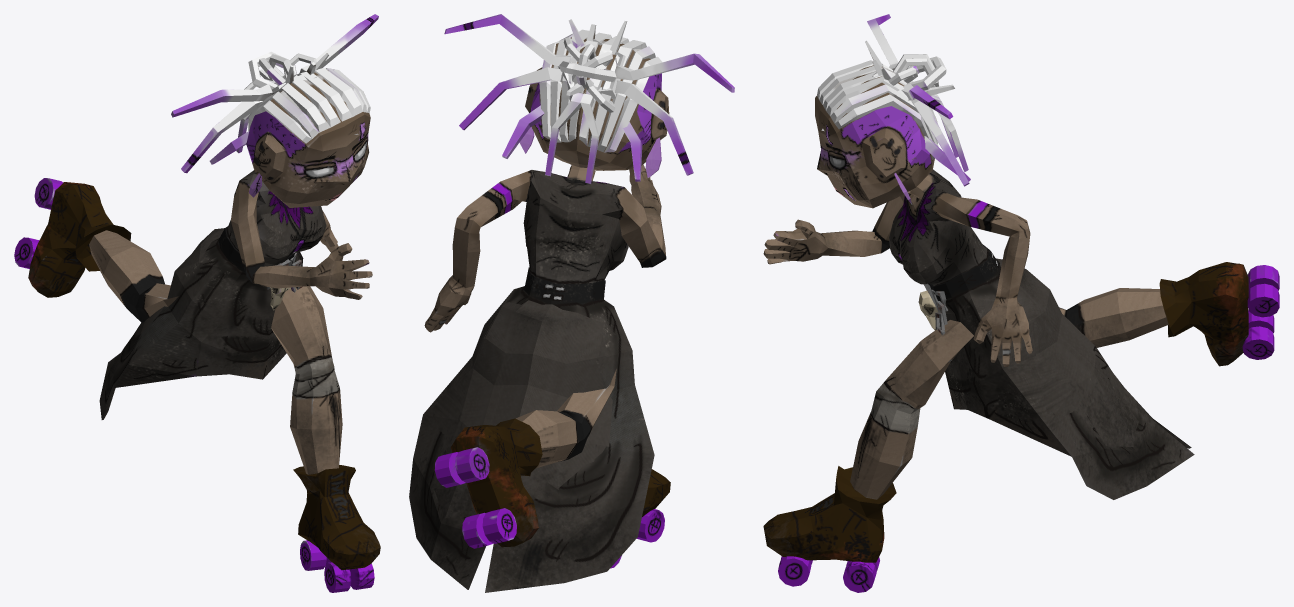
Rendered from bruja_000002.obj.
3 renders of one model, left to right at view 1: azimuth 30°, elevation 25°; view 2: azimuth 150°, elevation 25°; view 3: azimuth 270°, elevation 25°, orthographic. The views are drawn at different scales.
Visible parts, largest first — view 1: Bruja_Plane.001; view 2: Bruja_Plane.001; view 3: Bruja_Plane.001.
Boxes of the visible parts, bbox=[...] form: Bruja_Plane.001: bbox=[14, 14, 380, 592]; Bruja_Plane.001: bbox=[409, 14, 734, 592]; Bruja_Plane.001: bbox=[763, 14, 1279, 592].
Bounding box in the file's own units: 7.28 × 15.02 × 13.26.
